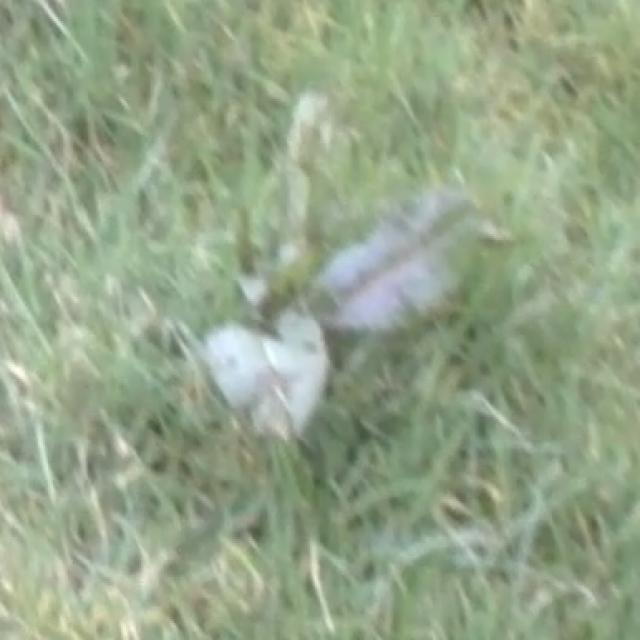organic waste: (146, 190, 524, 475)
